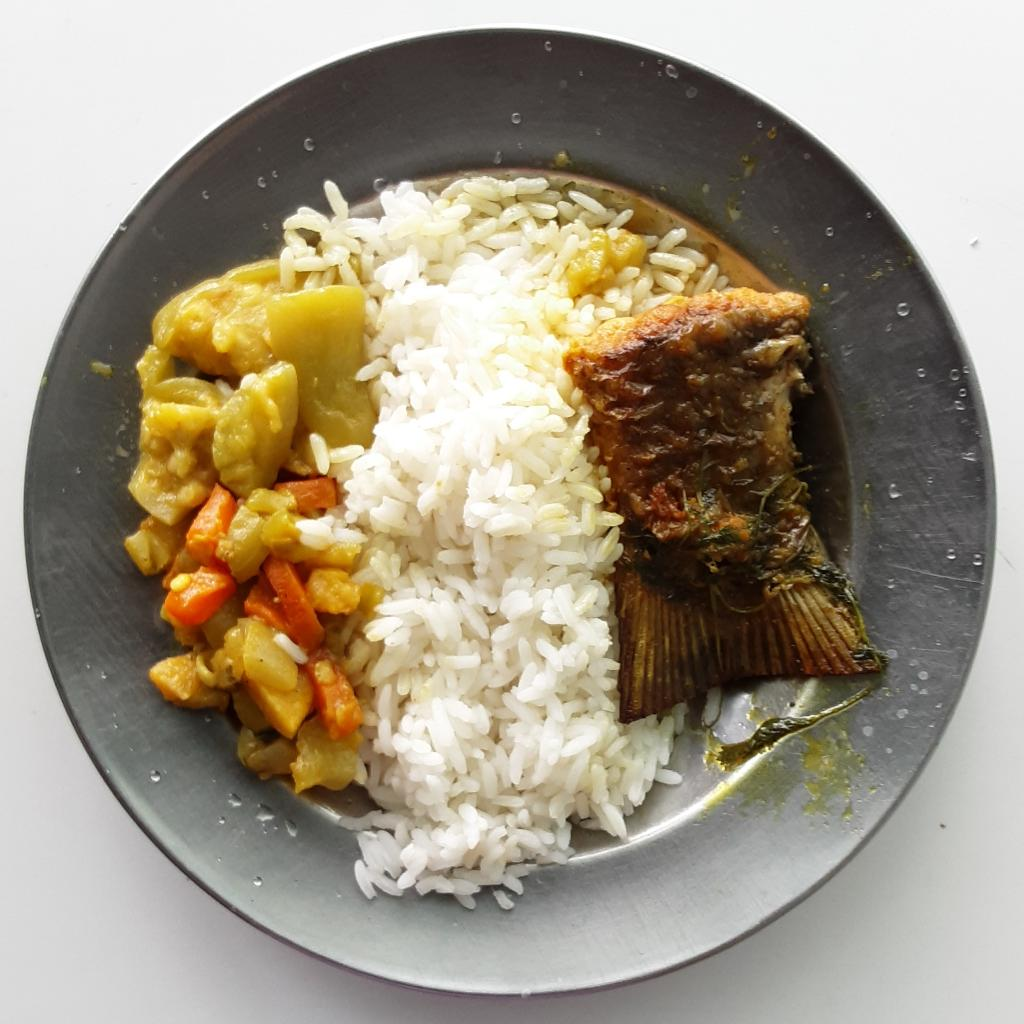fish: (569, 289, 885, 721)
rice: (275, 170, 732, 908)
vegetable: (124, 255, 376, 796)
